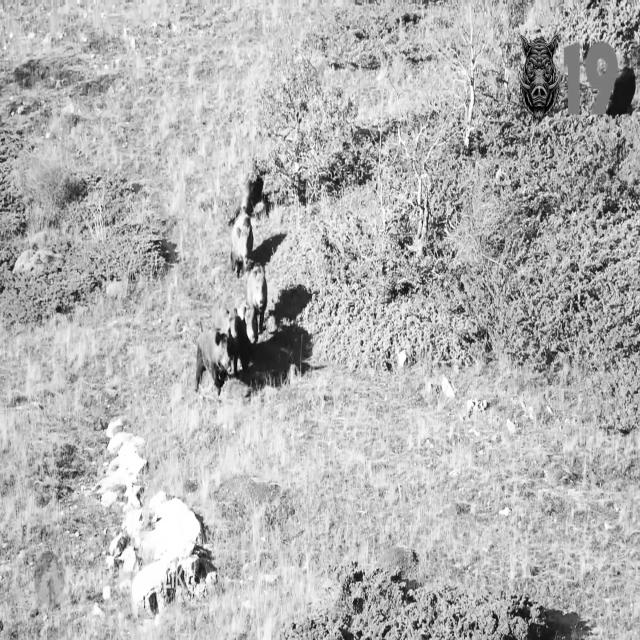boar: (195, 177, 266, 393)
